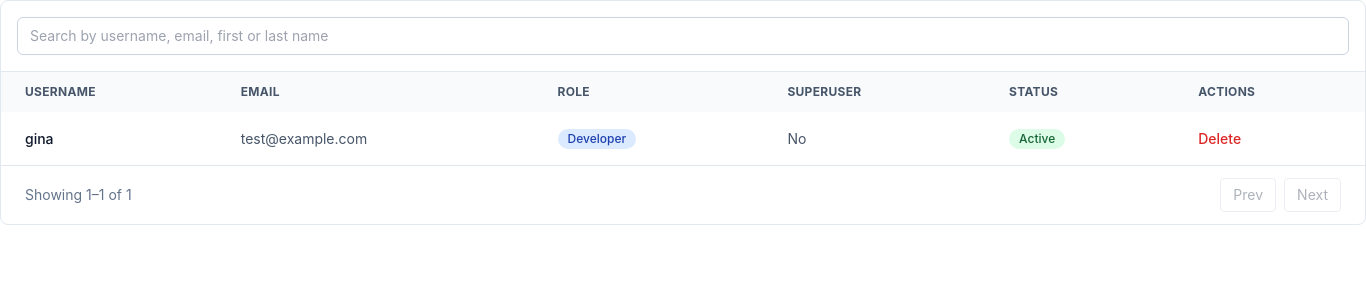
Test: UserTable › a failed delete shows an inline message on the table, never alert()
The width and height of the screenshot is (1366, 304).
Expected: the text "gina" is shown, [1,112,217,165]
Click the button with test id "delete-user-user-7" at (1220, 138), box [1198,128,1241,148]
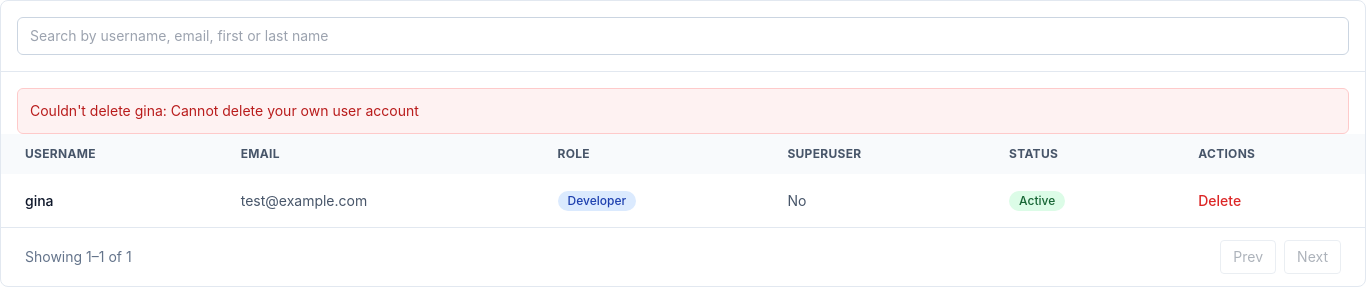
Expected: the message with test id "delete-error-message" reads "Couldn't delete gina: Cannot delete your own user account", [30,102,419,119]
